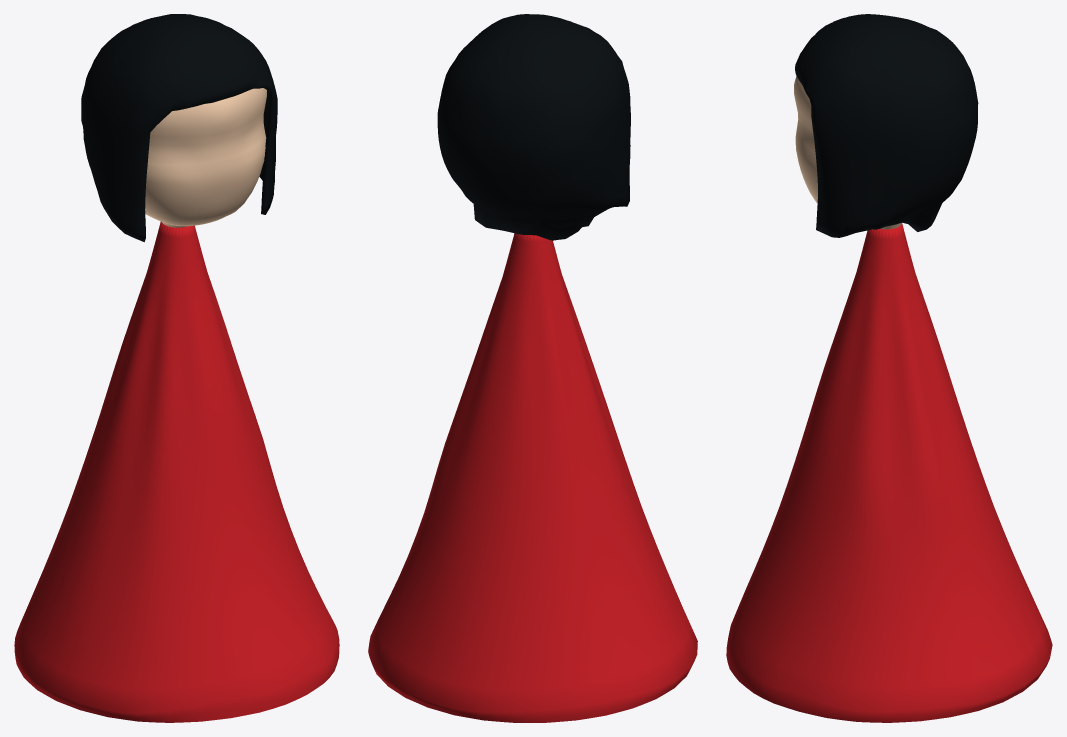
The picture shows the model from 3 angles, left to right: view 1: azimuth 30°, elevation 25°; view 2: azimuth 150°, elevation 25°; view 3: azimuth 270°, elevation 25°; orthographic projection.
Parts seen in each view (by area): view 1: Cone, hairrrr, Sphere; view 2: Cone, hairrrr; view 3: Cone, hairrrr, Sphere.
Boxes of the visible parts, left/top/right/bottom form: Cone: left=14, top=221, right=339, bottom=722; hairrrr: left=81, top=14, right=277, bottom=242; Sphere: left=145, top=88, right=266, bottom=227; Cone: left=368, top=233, right=697, bottom=722; hairrrr: left=437, top=14, right=630, bottom=240; Cone: left=726, top=223, right=1052, bottom=722; hairrrr: left=795, top=14, right=978, bottom=237; Sphere: left=794, top=76, right=901, bottom=229.
Size of the model in its own units: 322 by 681 by 319.
